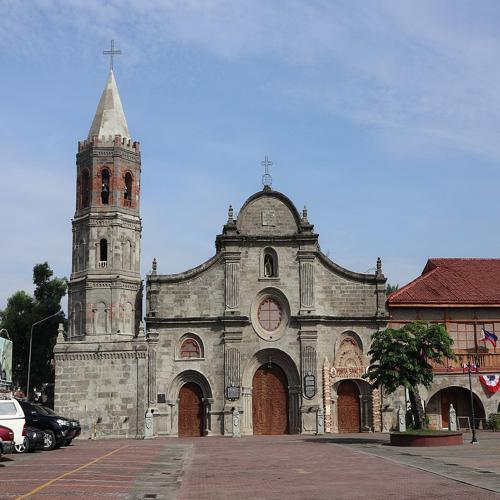Barasoain Church: (51, 33, 400, 435)
